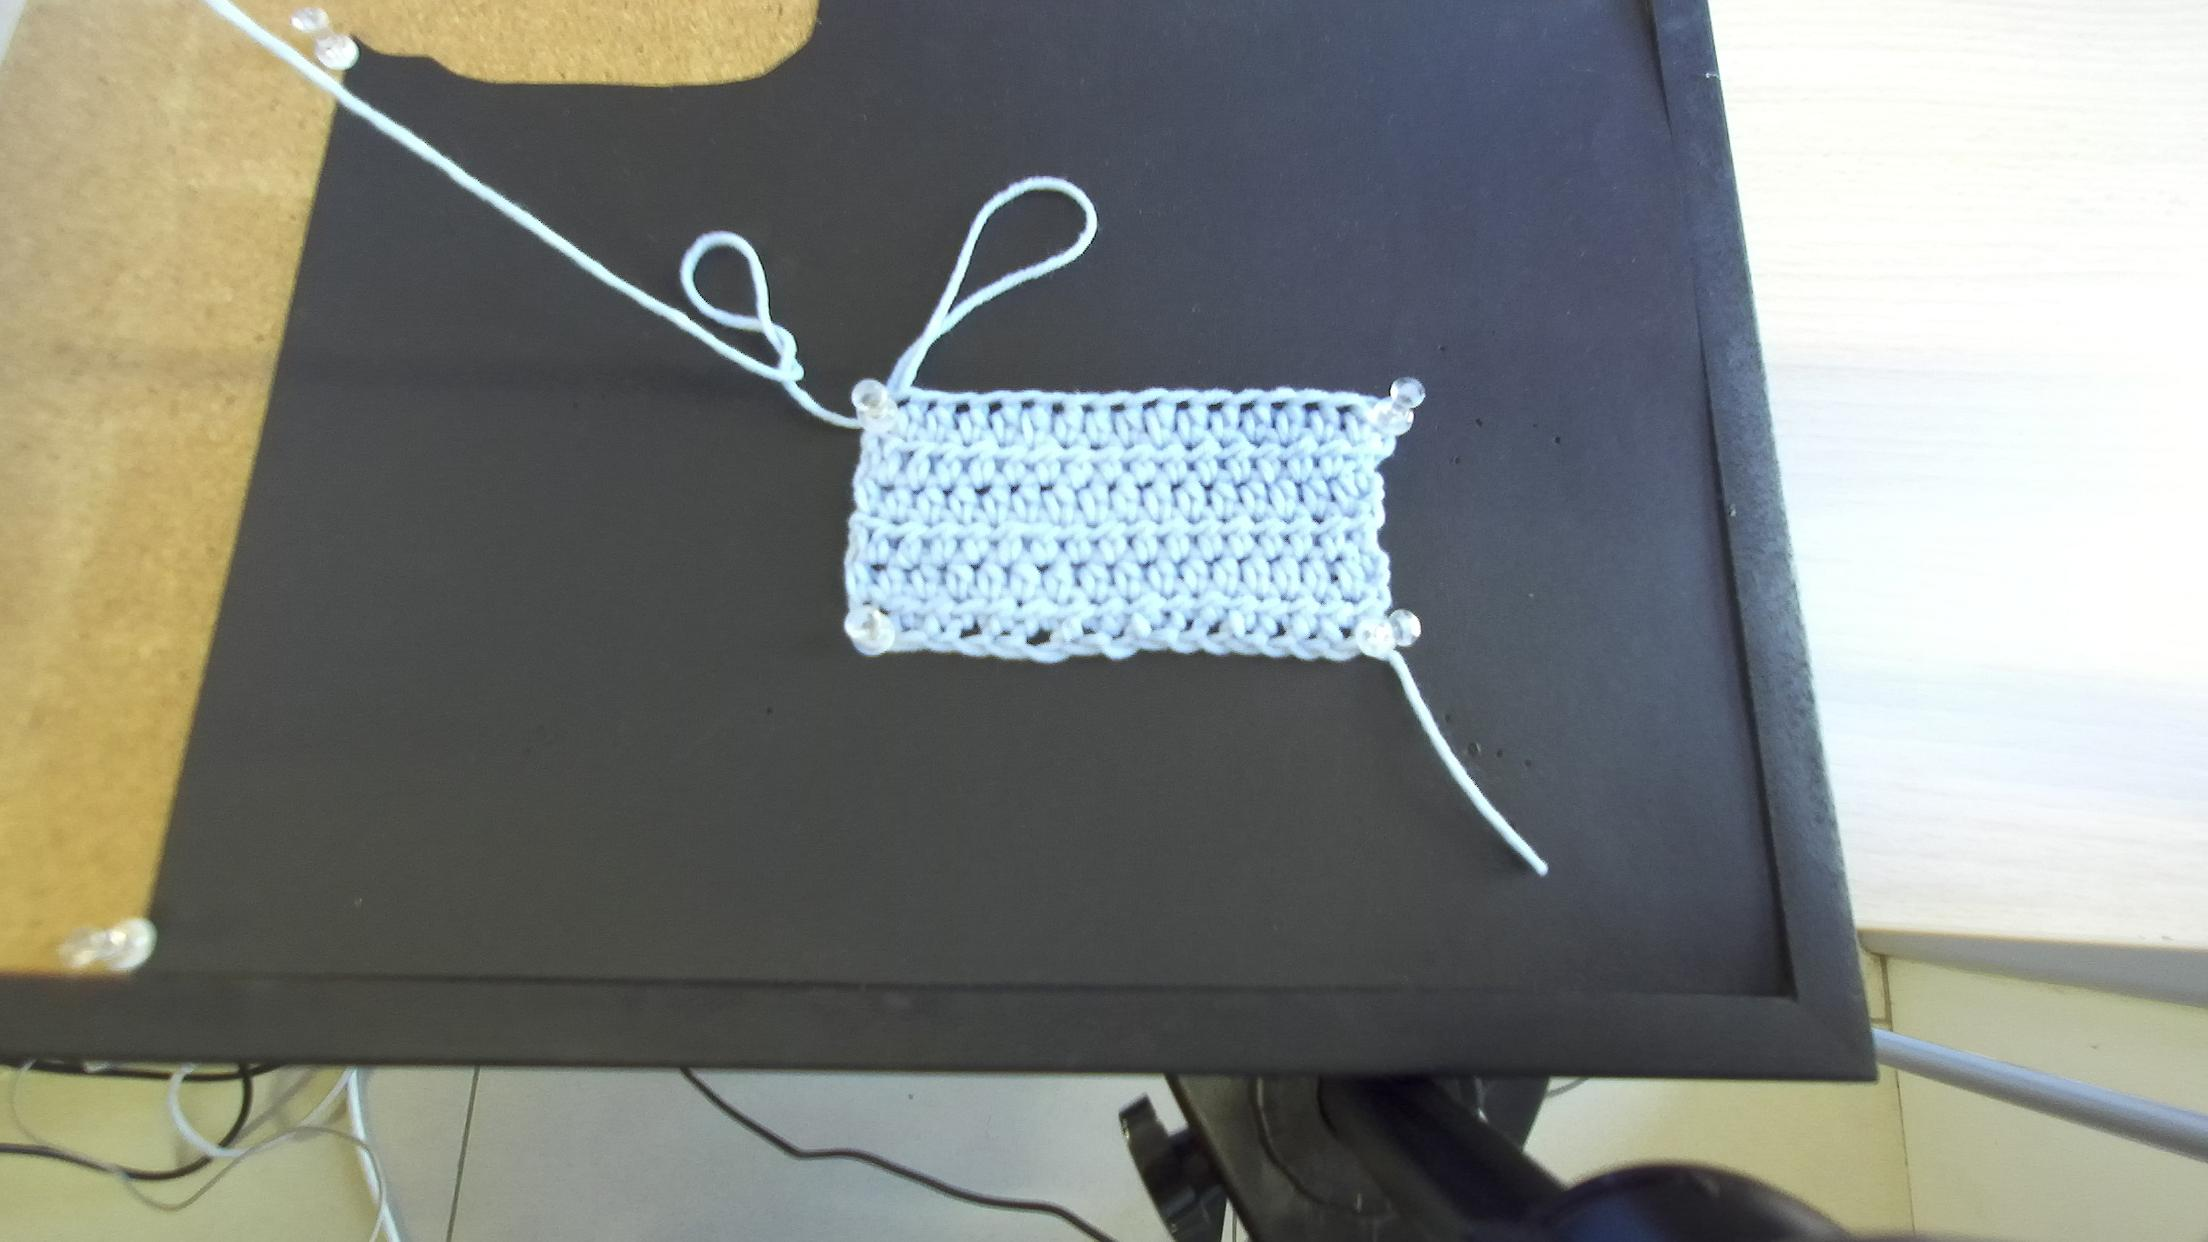hole: (1142, 399, 1162, 411), (1207, 400, 1224, 414), (954, 402, 969, 416), (990, 400, 1004, 416), (1239, 400, 1256, 412), (1077, 403, 1095, 414), (896, 397, 911, 409), (1021, 399, 1036, 411), (1110, 402, 1125, 414), (1175, 400, 1190, 412), (1335, 405, 1351, 416), (1051, 402, 1063, 416), (1303, 403, 1319, 412), (927, 399, 939, 411), (1271, 402, 1286, 409)
swatch: (842, 390, 1418, 667)
